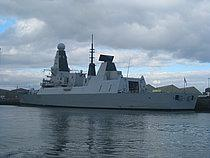MIL_Ship: (15, 38, 202, 113)
